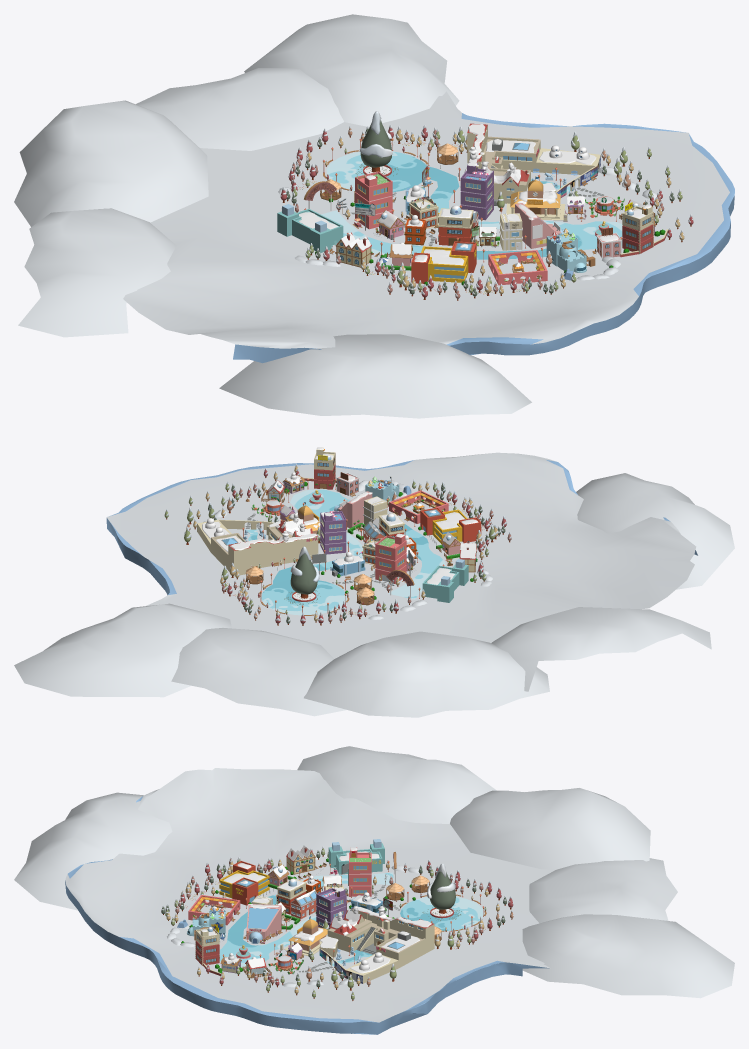
Rendered from Individual_PenguPlaza_02.fbx.
3 views of the same model, one above another, from view 1: azimuth 30°, elevation 25°; view 2: azimuth 150°, elevation 25°; view 3: azimuth 270°, elevation 25° (orthographic). The views are drawn at different scales.
Parts seen in each view (by area): view 1: pasted__pasted__Berg, pasted__SnowPatch17, pasted__SnowPatch23, pasted__SnowPatch22, pasted__SnowPatch25, pasted__SnowPatch24, polySurface81, pasted__pCube144, pasted__pCube153, pasted__polySurface218, pasted__pCube61, pasted__pCube60 (+9 smaller); view 2: pasted__pasted__Berg, pasted__SnowPatch23, pasted__SnowPatch25, pasted__SnowPatch24, pasted__SnowPatch22, pasted__SnowPatch17, polySurface81, pasted__pCube144, pasted__pCube60, pasted__pCube153, pasted__pCube61, pasted__polySurface218 (+6 smaller); view 3: pasted__pasted__Berg, pasted__SnowPatch25, pasted__SnowPatch23, pasted__SnowPatch22, pasted__SnowPatch17, pasted__SnowPatch24, polySurface81, pasted__polySurface218, pasted__pCube144, pasted__pCube55, pasted__pCube60, pasted__pCube61 (+8 smaller).
Part boxes in pixels (x1,y1,x2,y2): pasted__pasted__Berg: (123, 91, 734, 363); pasted__SnowPatch17: (219, 334, 531, 418); pasted__SnowPatch23: (14, 100, 208, 226); pasted__SnowPatch22: (18, 208, 176, 337); pasted__SnowPatch25: (244, 14, 459, 126); pasted__SnowPatch24: (136, 68, 343, 150); polySurface81: (467, 123, 600, 203); pasted__pCube144: (411, 241, 476, 283); pasted__pCube153: (277, 204, 343, 252); pasted__polySurface218: (464, 124, 596, 191); pasted__pCube61: (460, 162, 493, 220); pasted__pCube60: (355, 171, 392, 229); pasted__pasted__Berg: (106, 452, 697, 658); pasted__SnowPatch23: (304, 631, 549, 717); pasted__SnowPatch25: (14, 603, 231, 697); pasted__SnowPatch24: (171, 628, 346, 716); pasted__SnowPatch22: (491, 607, 711, 691); pasted__SnowPatch17: (576, 473, 734, 589); polySurface81: (197, 519, 318, 576); pasted__pCube144: (420, 507, 481, 544); pasted__pCube60: (375, 535, 406, 583); pasted__pCube153: (422, 559, 468, 602); pasted__pCube61: (320, 511, 346, 554); pasted__polySurface218: (202, 519, 317, 552); pasted__pasted__Berg: (65, 768, 554, 1034); pasted__SnowPatch25: (522, 914, 734, 998); pasted__SnowPatch23: (450, 788, 650, 869); pasted__SnowPatch22: (297, 746, 496, 823); pasted__SnowPatch17: (14, 792, 172, 910); pasted__SnowPatch24: (529, 858, 677, 923); polySurface81: (319, 908, 434, 983); pasted__polySurface218: (319, 906, 431, 973); pasted__pCube144: (219, 861, 269, 905); pasted__pCube55: (246, 904, 281, 939); pasted__pCube60: (349, 847, 371, 896); pasted__pCube61: (316, 888, 346, 929).
Bounding box in the file's own units: 18986 × 2836 × 20717.
